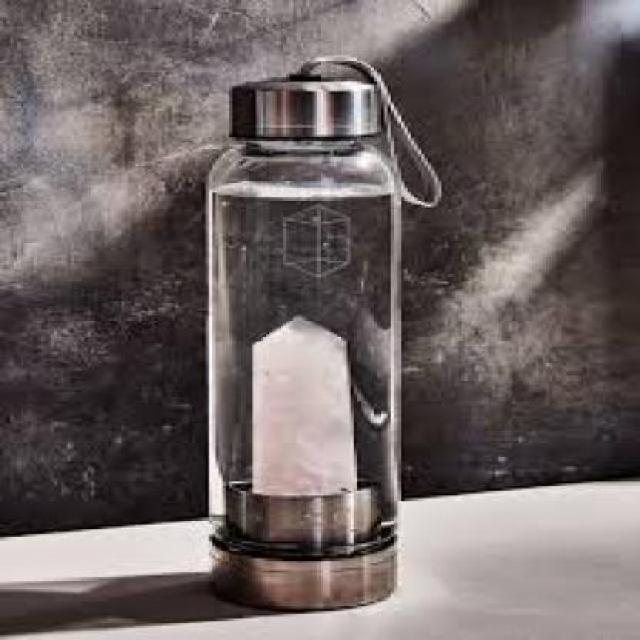Drinking: (178, 46, 424, 616)
